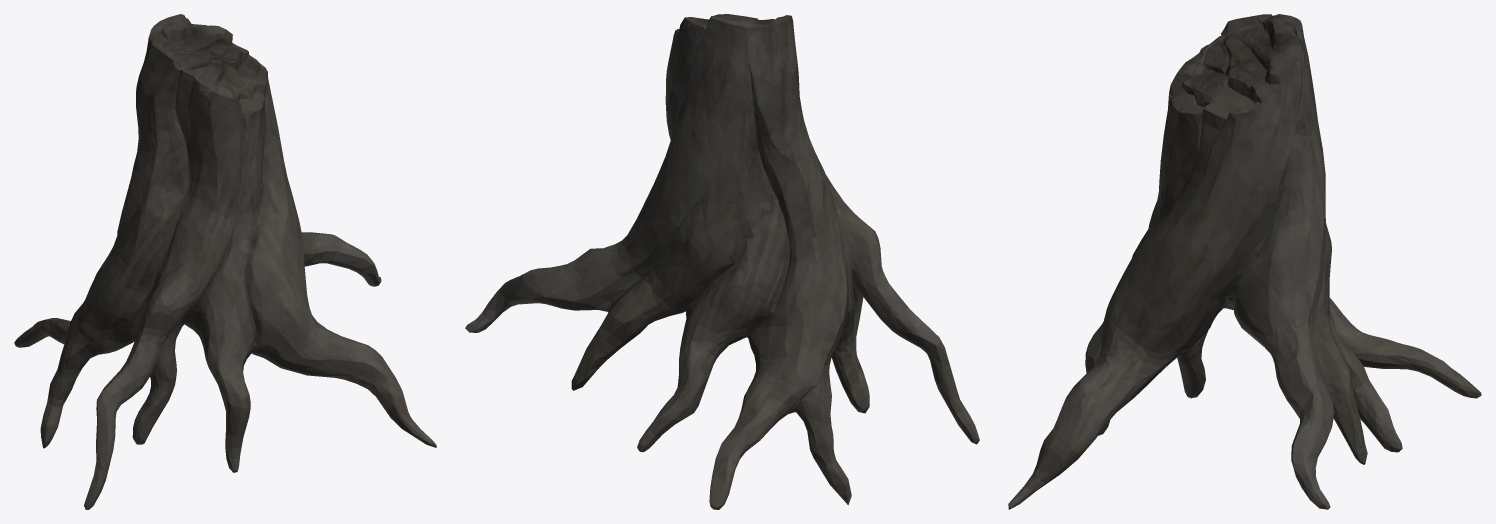
The picture shows the model from 3 angles, left to right: view 1: azimuth 30°, elevation 25°; view 2: azimuth 150°, elevation 25°; view 3: azimuth 270°, elevation 25°; orthographic projection. The views are drawn at different scales.
Visible parts, largest first — view 1: SM_TreeStump_01_LOD0; view 2: SM_TreeStump_01_LOD0; view 3: SM_TreeStump_01_LOD0.
Part boxes in pixels (x1,y1,x2,y2): SM_TreeStump_01_LOD0: (14, 14, 436, 509); SM_TreeStump_01_LOD0: (465, 14, 979, 509); SM_TreeStump_01_LOD0: (1008, 14, 1481, 509).
Size of the model in its own units: 4.83 by 4.92 by 4.64.
Materials: 1 (1 with a texture image).
